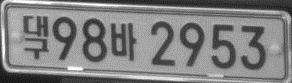2: (150, 20, 175, 66)
3: (240, 24, 266, 70)
5: (211, 23, 237, 69)
8: (81, 17, 107, 61)
9: (179, 21, 205, 67), (52, 16, 78, 60)
대구_V: (22, 15, 49, 59)
바: (110, 22, 137, 61)
